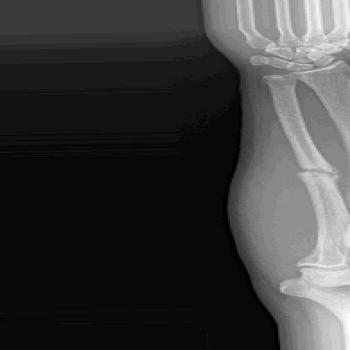Fracture: (287, 160, 344, 181)
